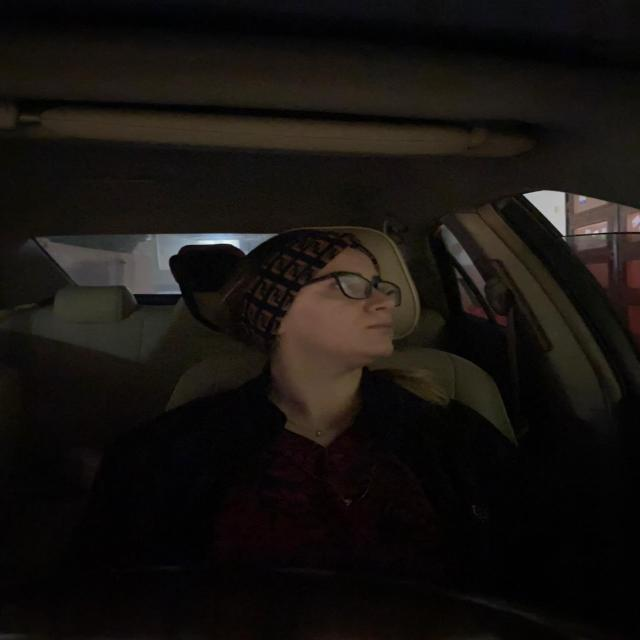LeftRight: (224, 224, 408, 374)
